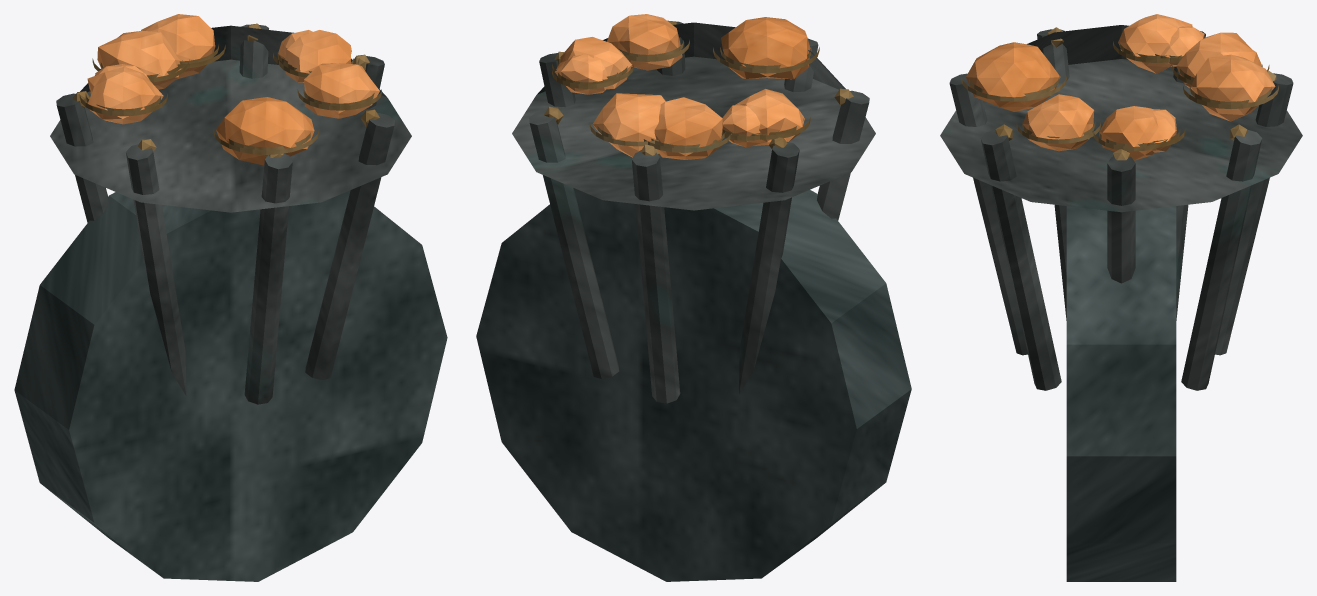
The model's file is 0542_brazier_17.glb.
3 views of the same model, side by side, from view 1: azimuth 30°, elevation 25°; view 2: azimuth 150°, elevation 25°; view 3: azimuth 270°, elevation 25° (orthographic).
Visible parts, largest first — view 1: stone_dark, iron, amber, brass; view 2: stone_dark, iron, amber, brass; view 3: iron, stone_dark, amber, brass.
Part boxes in pixels (x1,y1,x2,y2): stone_dark: (14,190,447,581); iron: (50,24,411,404); amber: (87,14,379,165); brass: (72,23,381,157); stone_dark: (476,188,911,581); iron: (512,21,875,403); amber: (555,14,810,159); brass: (544,20,853,155); iron: (940,25,1302,390); stone_dark: (1066,206,1176,581); amber: (966,14,1275,160); brass: (961,27,1278,160).
Bounding box in the file's own units: 1.4 × 1.78 × 1.16.
4 materials, 4 textured.
